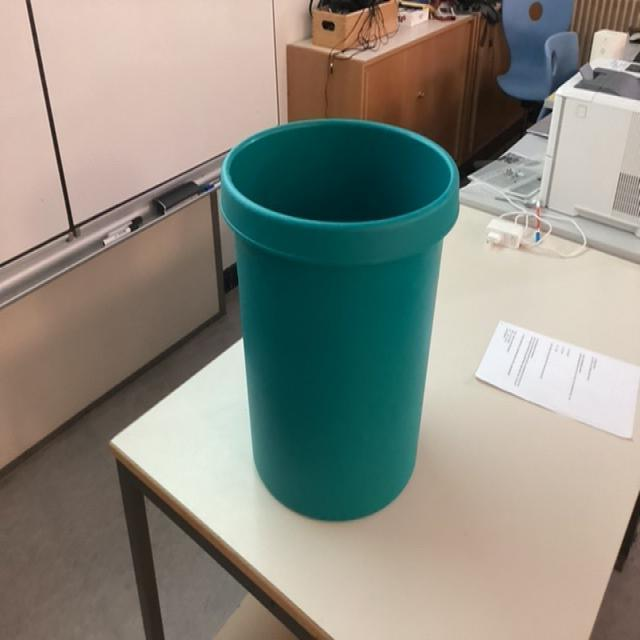garbage container: (195, 108, 471, 524)
